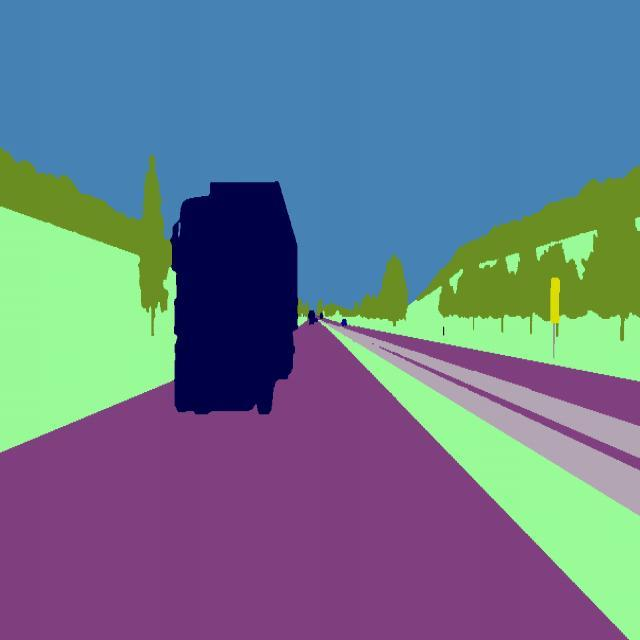safe: (170, 176, 301, 416), (305, 308, 319, 328)
